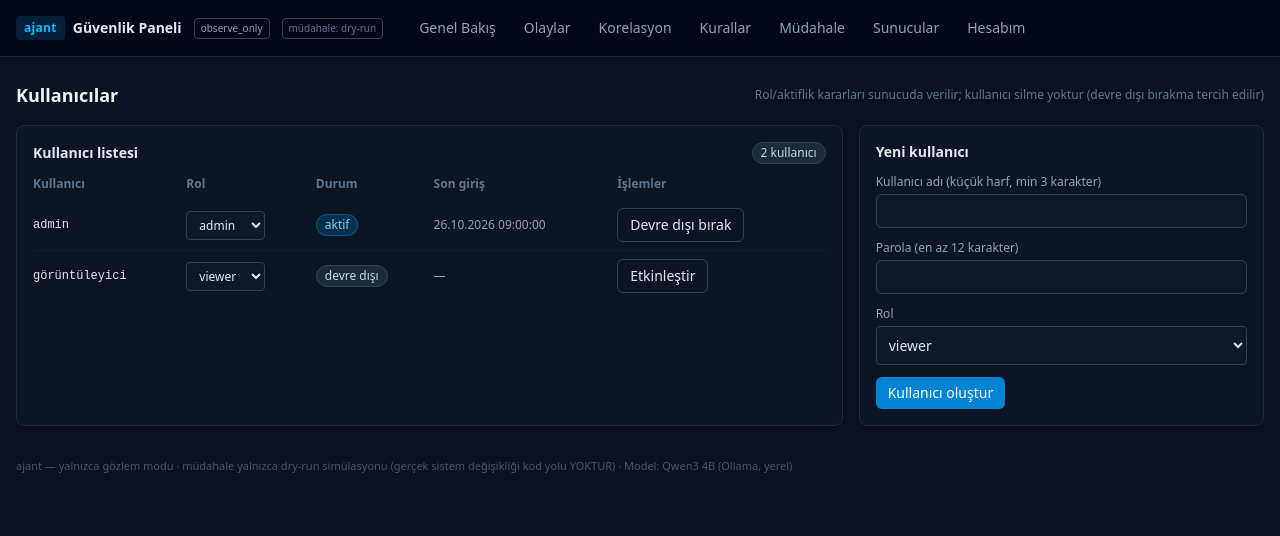
Test: Kullanıcılar sayfası (Faz 08) › zayıf parolada istek göndermeden hata verir
This screenshot has width=1280, height=536.
Step 1. Type "yeni-kullanici" into the field labelled "Kullanıcı adı (küçük harf, min 3 karakter)" → (1061, 211), box [876, 194, 1247, 228]
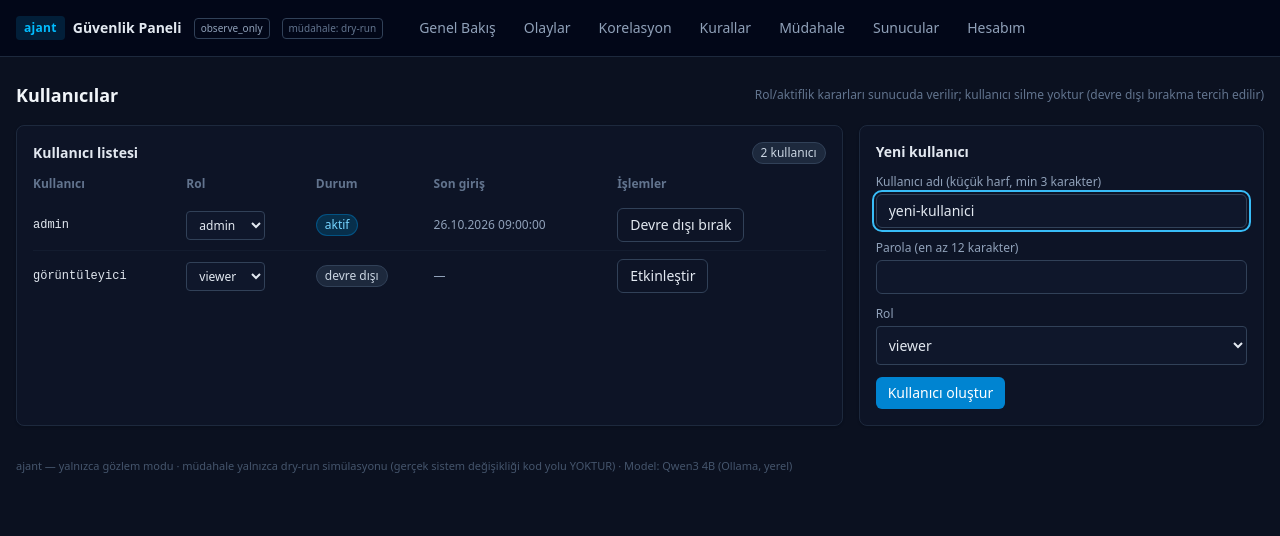
Step 2. Type "kisa-123" into the password field labelled "Parola (en az 12 karakter)" → (1061, 277), box [876, 260, 1247, 294]
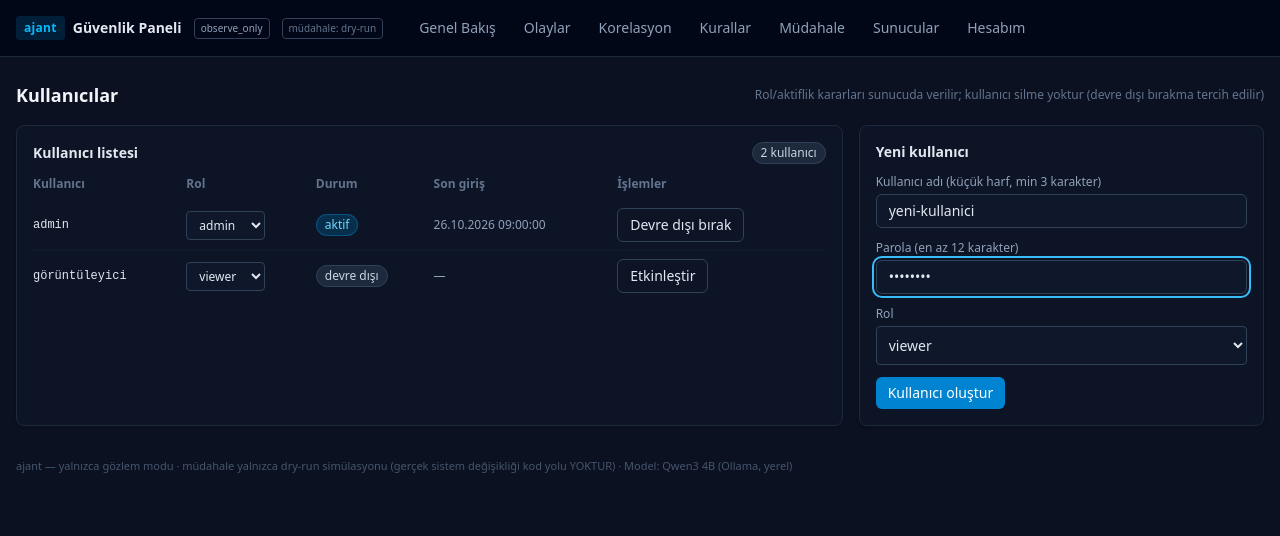
Step 3. Click the button "Kullanıcı oluştur" → (940, 393), box [876, 377, 1005, 409]
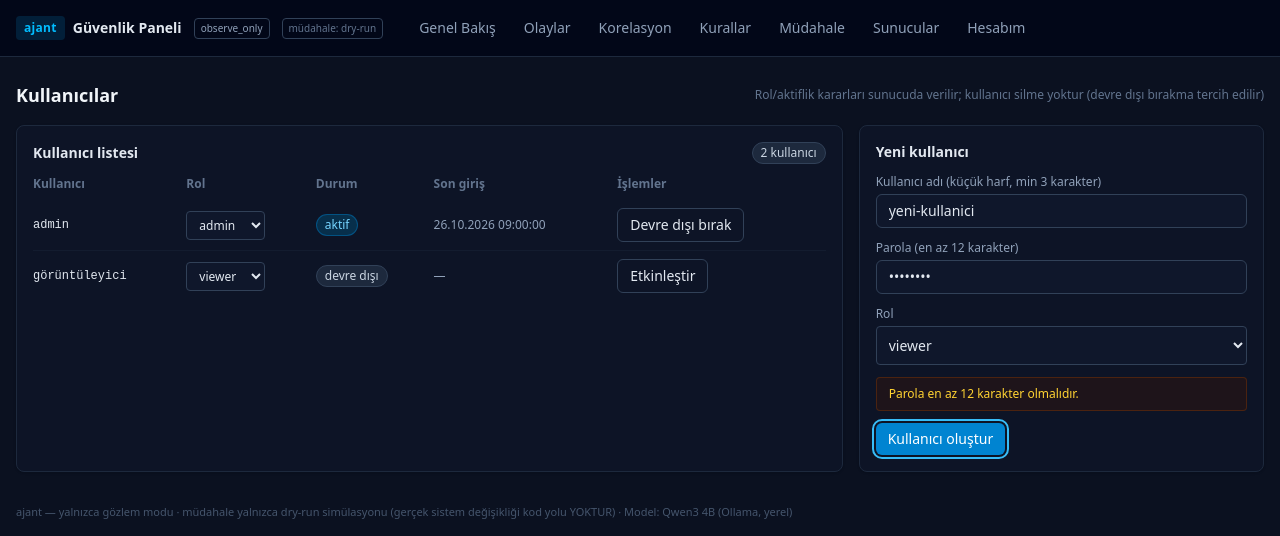
Result: the message shows "en az 12 karakter" at [889, 385, 1079, 402]
